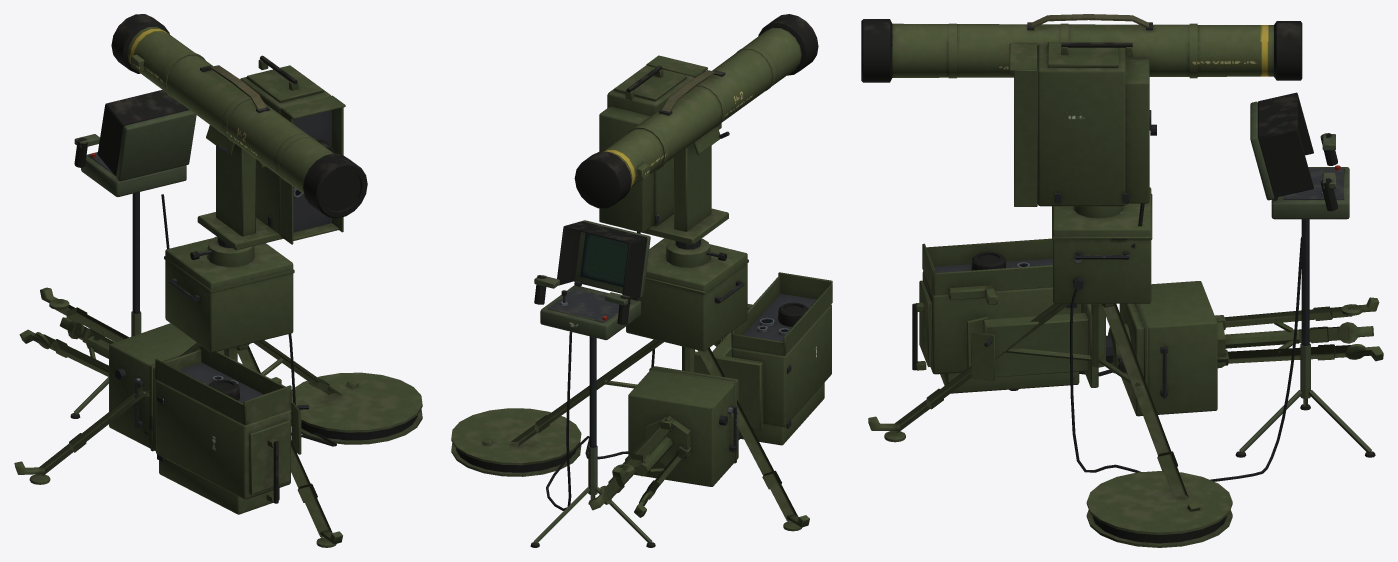
Rendered from stugna.glb.
3 renders of one model, left to right at view 1: azimuth 30°, elevation 25°; view 2: azimuth 150°, elevation 25°; view 3: azimuth 270°, elevation 25°, orthographic. The views are drawn at different scales.
Visible parts, largest first — view 1: stugna_tripod_mesh, folded_mesh, stugna_tube_mesh, stugna_control_mesh, stugna_cable_mesh; view 2: folded_mesh, stugna_tripod_mesh, stugna_tube_mesh, stugna_control_mesh, stugna_cable_mesh; view 3: folded_mesh, stugna_tripod_mesh, stugna_tube_mesh, stugna_control_mesh, stugna_cable_mesh.
Part boxes in pixels (x1,y1,x2,y2): stugna_tripod_mesh: [14, 55, 358, 547]; folded_mesh: [19, 287, 308, 514]; stugna_tube_mesh: [111, 14, 367, 218]; stugna_control_mesh: [70, 90, 196, 418]; stugna_cable_mesh: [161, 194, 422, 453]; folded_mesh: [589, 272, 832, 517]; stugna_tripod_mesh: [482, 55, 809, 531]; stugna_tube_mesh: [574, 14, 818, 208]; stugna_control_mesh: [530, 220, 655, 547]; stugna_cable_mesh: [451, 331, 654, 510]; folded_mesh: [912, 238, 1383, 416]; stugna_tripod_mesh: [868, 42, 1200, 511]; stugna_tube_mesh: [861, 14, 1302, 82]; stugna_control_mesh: [1235, 92, 1375, 457]; stugna_cable_mesh: [1070, 237, 1303, 547].
Size of what is drawn, in the model's own units: 1.39 by 1.39 by 1.54.
1 material, 1 textured.
